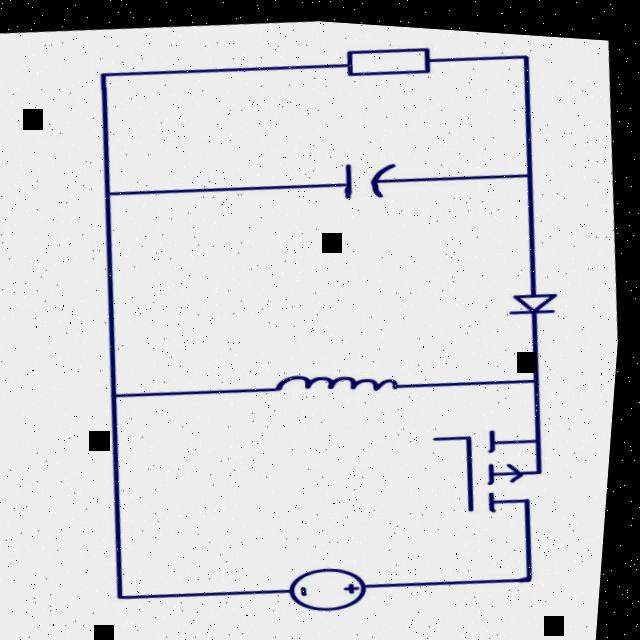capacitor: (319, 138, 432, 218)
diode: (486, 265, 575, 330)
inductor: (261, 346, 427, 419)
mosfet: (427, 408, 573, 518)
resistor: (335, 26, 450, 85)
source: (285, 552, 389, 621)
